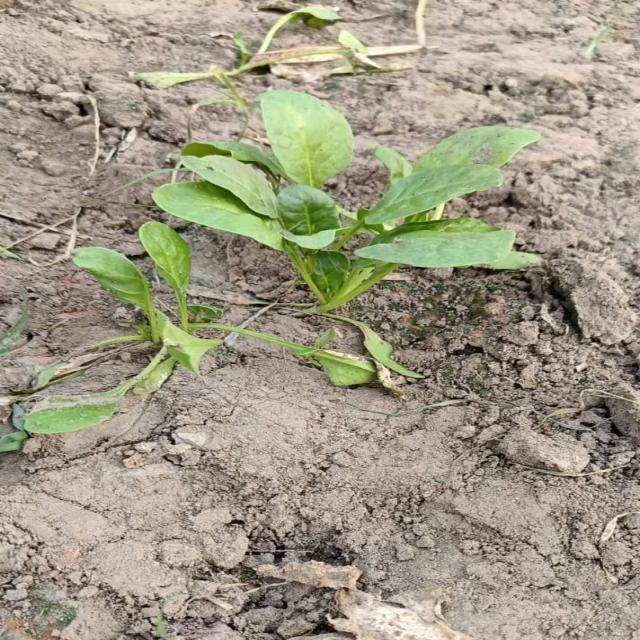plant: (152, 90, 539, 313), (23, 222, 244, 434), (248, 328, 424, 386)
